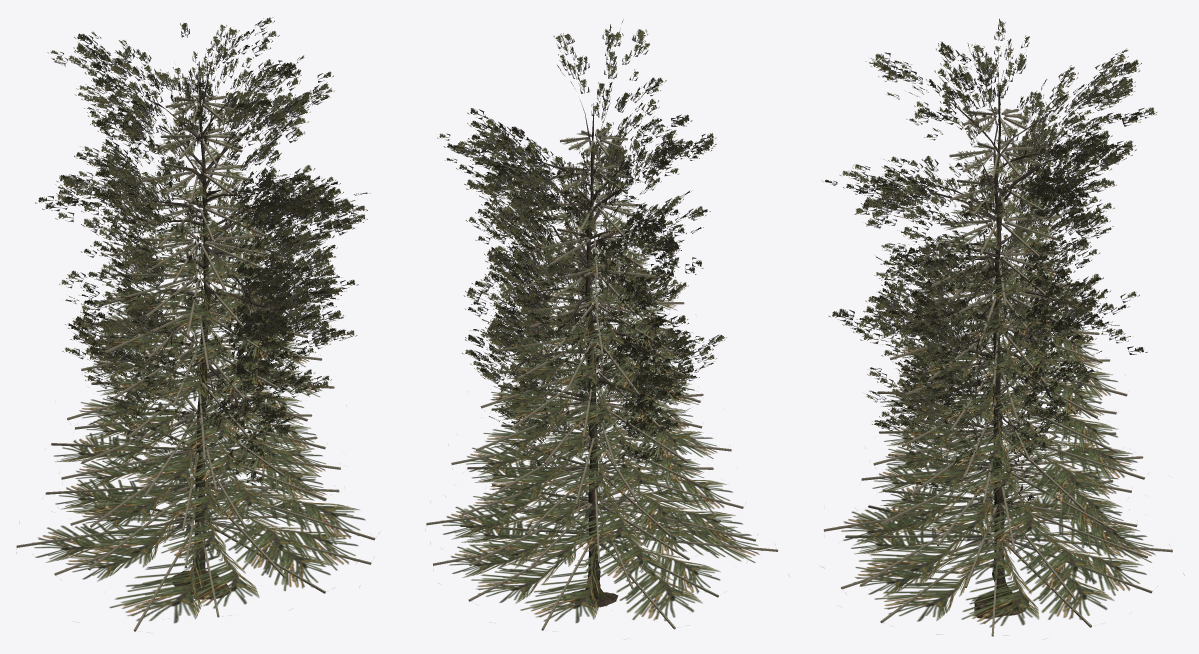
File: pine_tree.glb
3 views of the same model, side by side, from view 1: azimuth 30°, elevation 25°; view 2: azimuth 150°, elevation 25°; view 3: azimuth 270°, elevation 25° (orthographic). The views are drawn at different scales.
Visible parts, largest first — view 1: ph-pine-b-mid, Spruce_like_needle_cards_separate, Spruce_branch_stems_separate; view 2: Spruce_like_needle_cards_separate, ph-pine-b-mid, Spruce_branch_stems_separate; view 3: ph-pine-b-mid, Spruce_like_needle_cards_separate, Spruce_branch_stems_separate.
Boxes of the visible parts, left/top/right/bottom form: ph-pine-b-mid: left=35, top=17, right=370, bottom=599; Spruce_like_needle_cards_separate: left=16, top=95, right=365, bottom=623; Spruce_branch_stems_separate: left=16, top=94, right=375, bottom=631; Spruce_like_needle_cards_separate: left=441, top=130, right=763, bottom=622; ph-pine-b-mid: left=437, top=20, right=726, bottom=607; Spruce_branch_stems_separate: left=426, top=129, right=778, bottom=630; ph-pine-b-mid: left=822, top=18, right=1157, bottom=618; Spruce_like_needle_cards_separate: left=839, top=108, right=1184, bottom=627; Spruce_branch_stems_separate: left=823, top=107, right=1172, bottom=636.
Size of the model in its own units: 6.9 by 11.61 by 6.63.
Materials: 6 (5 with a texture image).
